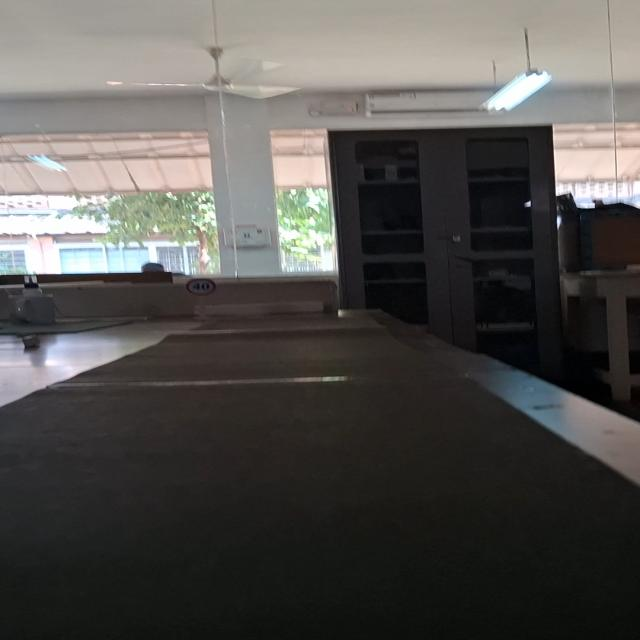Speed40: (185, 278, 218, 296)
